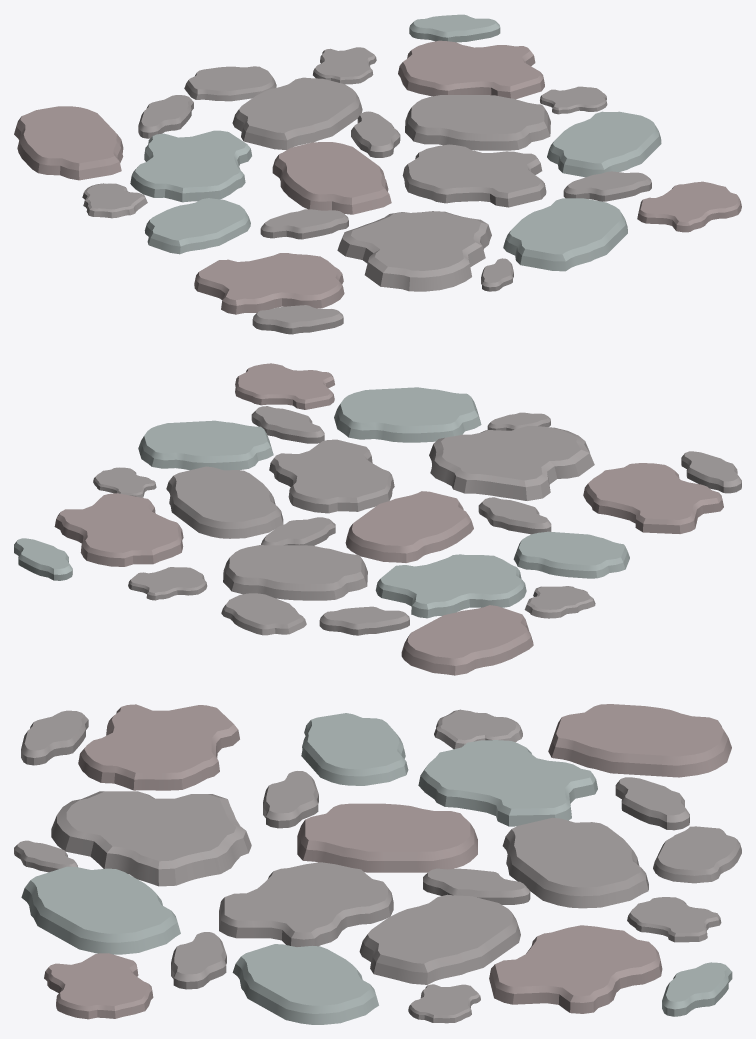
Rendered from rockPathUnwrapped.fbx.
3 views of the same model, one above another, from view 1: azimuth 30°, elevation 25°; view 2: azimuth 150°, elevation 25°; view 3: azimuth 270°, elevation 25° (orthographic). The views are drawn at different scales.
Visible parts, largest first — view 1: rock2, rock1, pasted__rock2, pPlane6, pasted__pasted__rock1, pasted__rock1, pasted__pasted__pPlane4, pasted__pPlane4, pPlane4, pasted__pPlane6, pPlane8, pPlane7 (+12 smaller); view 2: rock2, pasted__rock1, pasted__pasted__pPlane4, pasted__rock2, pasted__pPlane4, pasted__pasted__rock1, rock1, pasted__pPlane6, pPlane4, pPlane6, pPlane8, pPlane7 (+12 smaller); view 3: rock2, pasted__pPlane6, pasted__pasted__rock1, pPlane4, rock1, pasted__rock2, pasted__rock1, pPlane6, pasted__pPlane4, pasted__pasted__pPlane4, pPlane8, pPlane7 (+12 smaller).
Part boxes in pixels (bbox=[...]): rock2: bbox=[337, 211, 491, 291]; rock1: bbox=[402, 144, 546, 207]; pasted__rock2: bbox=[194, 253, 344, 314]; pPlane6: bbox=[405, 95, 550, 150]; pasted__pasted__rock1: bbox=[398, 40, 544, 99]; pasted__rock1: bbox=[130, 130, 251, 202]; pasted__pasted__pPlane4: bbox=[232, 77, 362, 149]; pasted__pPlane4: bbox=[503, 198, 627, 271]; pPlane4: bbox=[272, 142, 391, 214]; pasted__pPlane6: bbox=[14, 106, 123, 180]; pPlane8: bbox=[547, 111, 661, 177]; pPlane7: bbox=[144, 198, 250, 254]; rock2: bbox=[429, 426, 594, 500]; pasted__rock1: bbox=[375, 554, 526, 618]; pasted__pasted__pPlane4: bbox=[223, 545, 367, 600]; pasted__rock2: bbox=[583, 463, 723, 533]; pasted__pPlane4: bbox=[334, 387, 481, 442]; pasted__pasted__rock1: bbox=[54, 493, 183, 566]; rock1: bbox=[269, 439, 394, 513]; pasted__pPlane6: bbox=[401, 605, 533, 675]; pPlane4: bbox=[345, 491, 473, 562]; pPlane6: bbox=[166, 466, 283, 538]; pPlane8: bbox=[138, 420, 273, 470]; pPlane7: bbox=[513, 531, 629, 578]; rock2: bbox=[51, 791, 251, 886]; pasted__pPlane6: bbox=[548, 704, 731, 777]; pasted__pasted__rock1: bbox=[489, 925, 662, 1013]; pPlane4: bbox=[297, 803, 477, 872]; rock1: bbox=[219, 862, 393, 946]; pasted__rock2: bbox=[78, 704, 239, 790]; pasted__rock1: bbox=[418, 740, 597, 826]; pPlane6: bbox=[359, 894, 520, 984]; pasted__pPlane4: bbox=[21, 866, 180, 954]; pasted__pasted__pPlane4: bbox=[502, 817, 648, 908]; pPlane8: bbox=[232, 944, 378, 1024]; pPlane7: bbox=[301, 713, 408, 785].
Bounding box in the file's own units: 0.9794 × 0.0278 × 0.9731.
